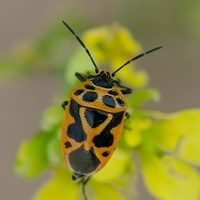insect: (61, 21, 161, 199)
